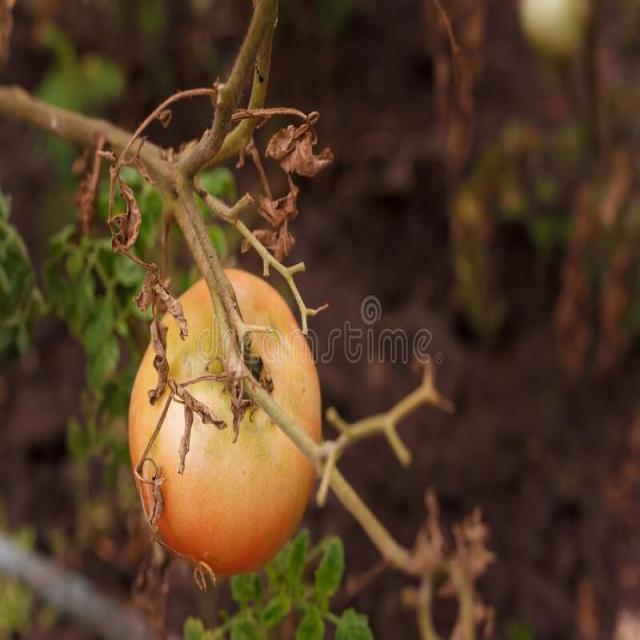sari: (124, 278, 340, 558)
